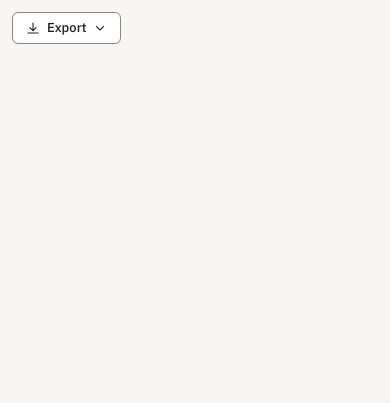
the export menu › exports the files a result drew from as a file of its own
This screenshot has width=390, height=403.
Click the button "Export" at coordinates (67, 28), box [12,12,121,44]
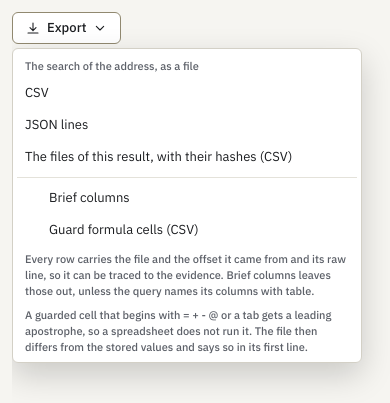
Click the menu item "The files of this result, with their hashes (CSV)" at coordinates (159, 156), box [25,148,292,164]
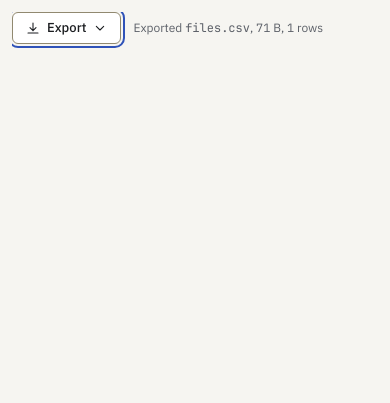
Expected: the text "Exported files.csv, 71 B, 1 rows" is shown, [133,19,323,37]
